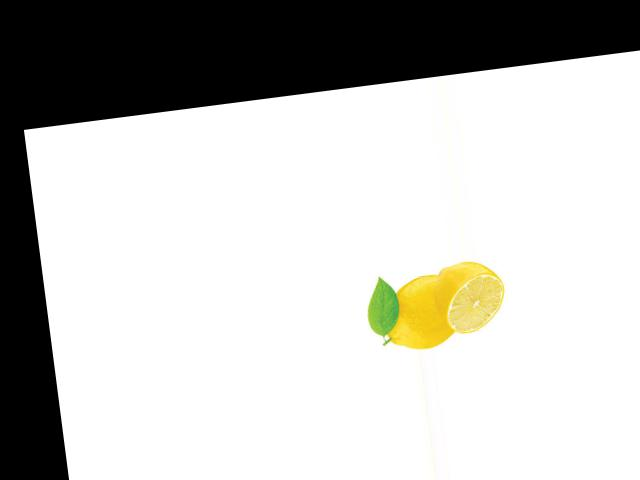lemon: (373, 270, 458, 355)
